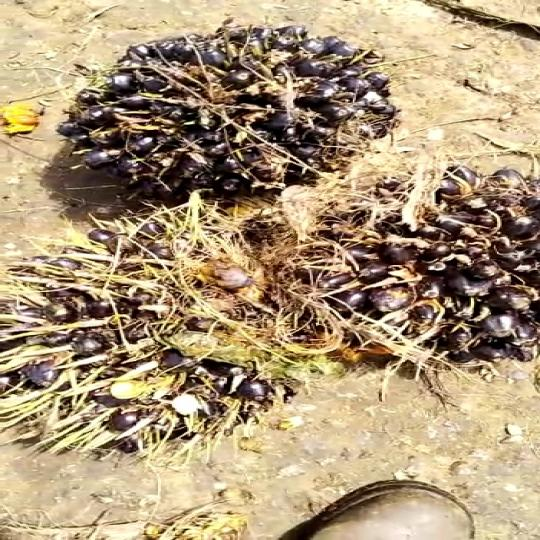mentah: (0, 198, 381, 446), (55, 7, 406, 191), (324, 159, 540, 382)
